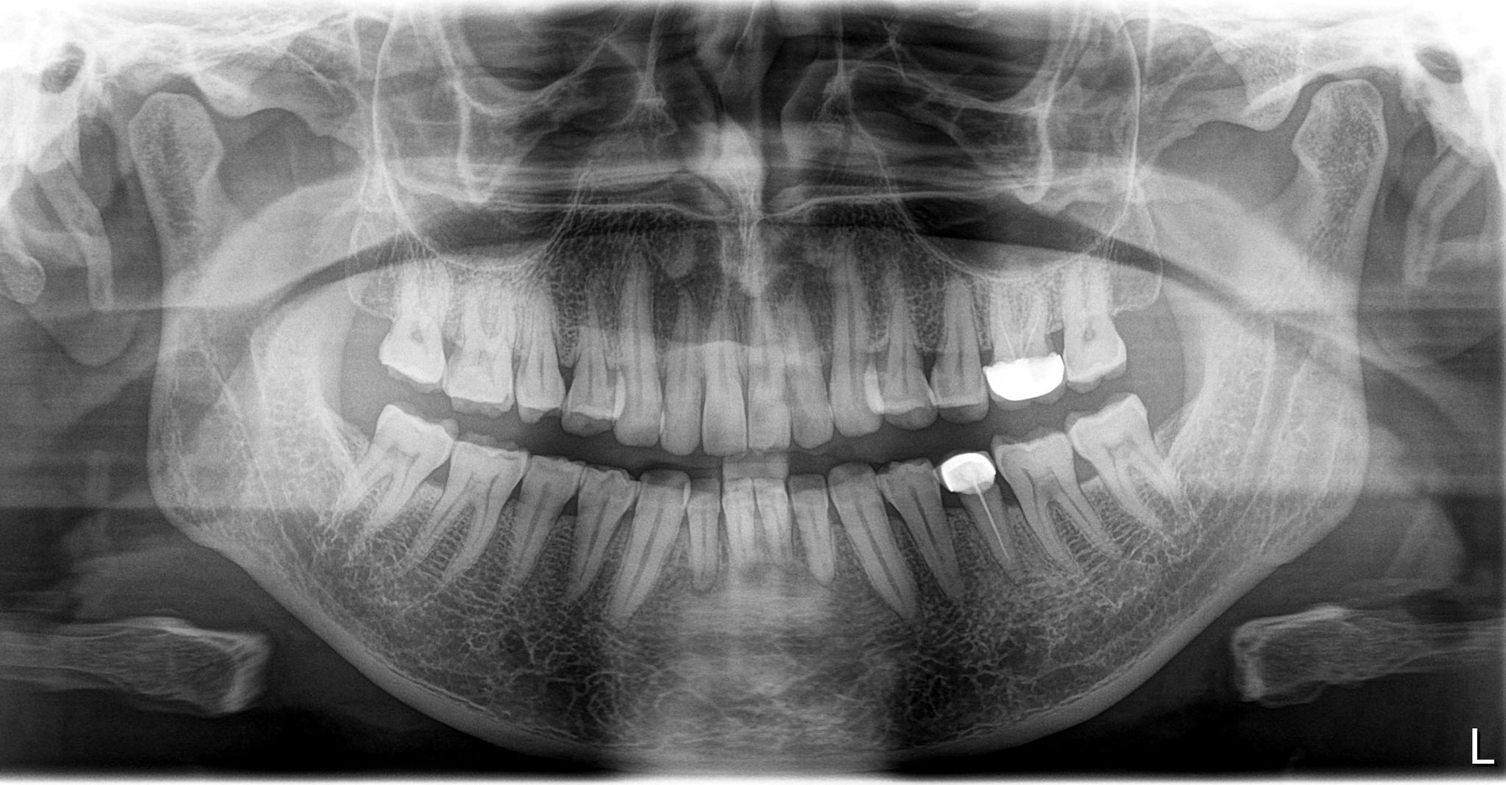Dental Caries: (923, 349, 941, 379), (1085, 325, 1098, 346)
Endodontically Treated Tooth: (980, 281, 1066, 404), (953, 457, 1020, 588)
Impacted Third Molar: (1072, 423, 1191, 543), (346, 413, 433, 534)
